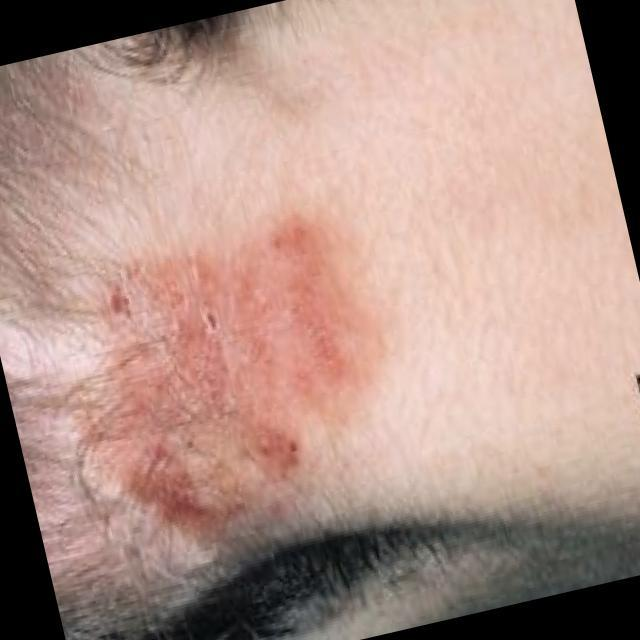Eczema: (88, 208, 373, 528)
